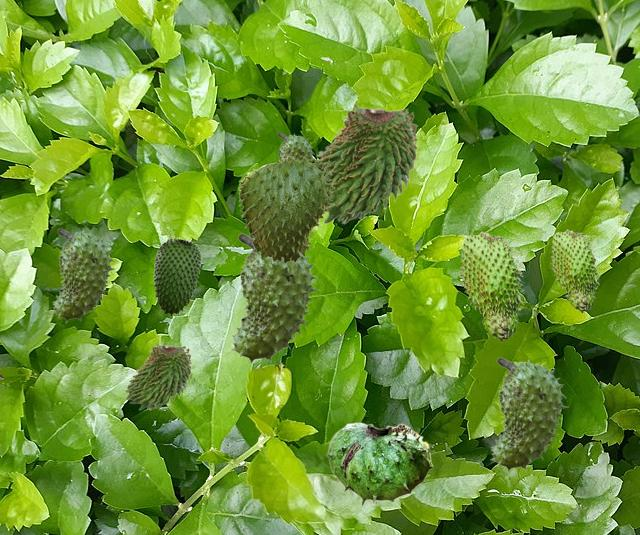guyabano: (316, 102, 418, 223), (229, 233, 319, 364), (238, 155, 334, 265), (489, 357, 568, 472), (326, 422, 432, 505), (459, 231, 524, 341), (51, 228, 115, 322), (124, 342, 191, 409), (550, 229, 599, 312), (153, 237, 200, 315), (277, 132, 315, 160)
